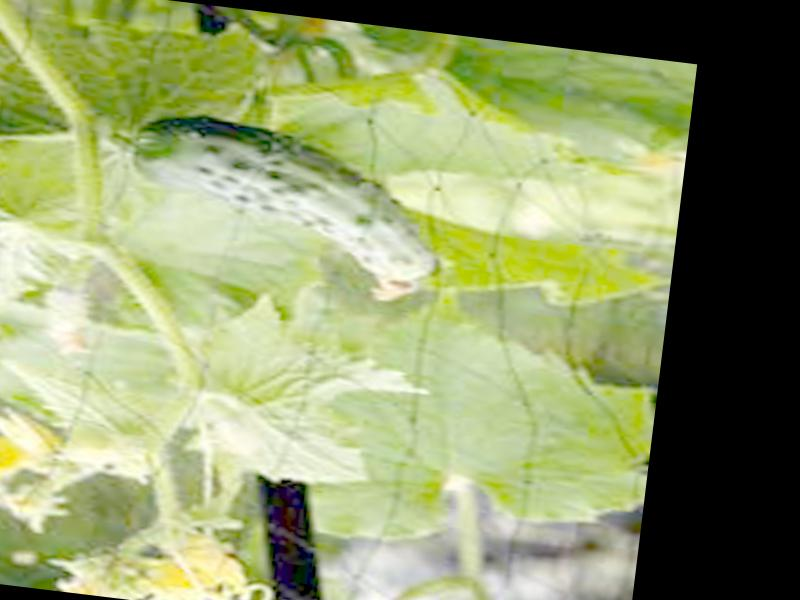Cucumber: (111, 109, 452, 308)
